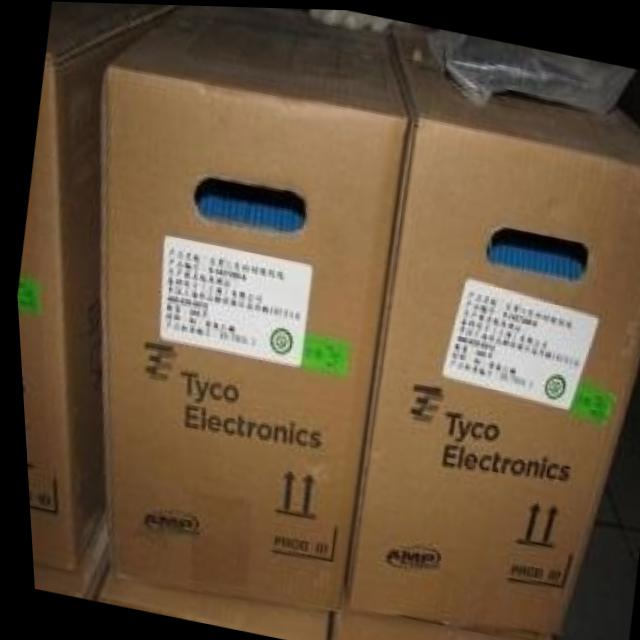box: (101, 4, 409, 611), (338, 17, 640, 631), (14, 1, 185, 568), (91, 574, 322, 640), (325, 612, 550, 640), (26, 520, 99, 599)
